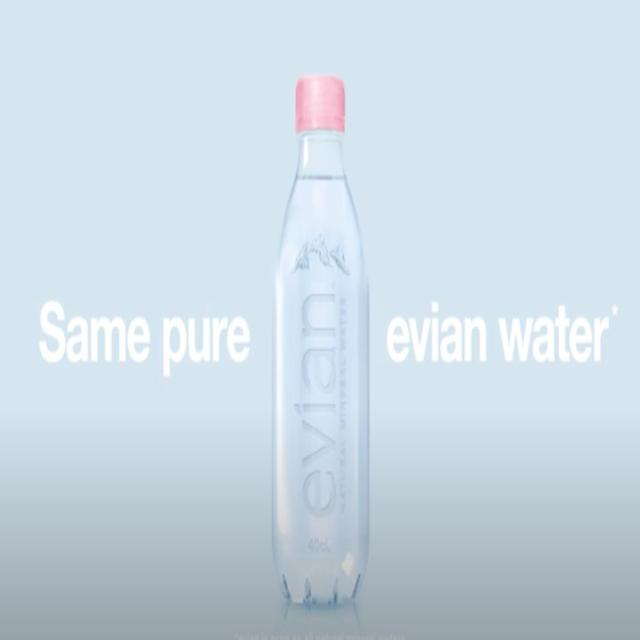bottle: (269, 67, 371, 615)
